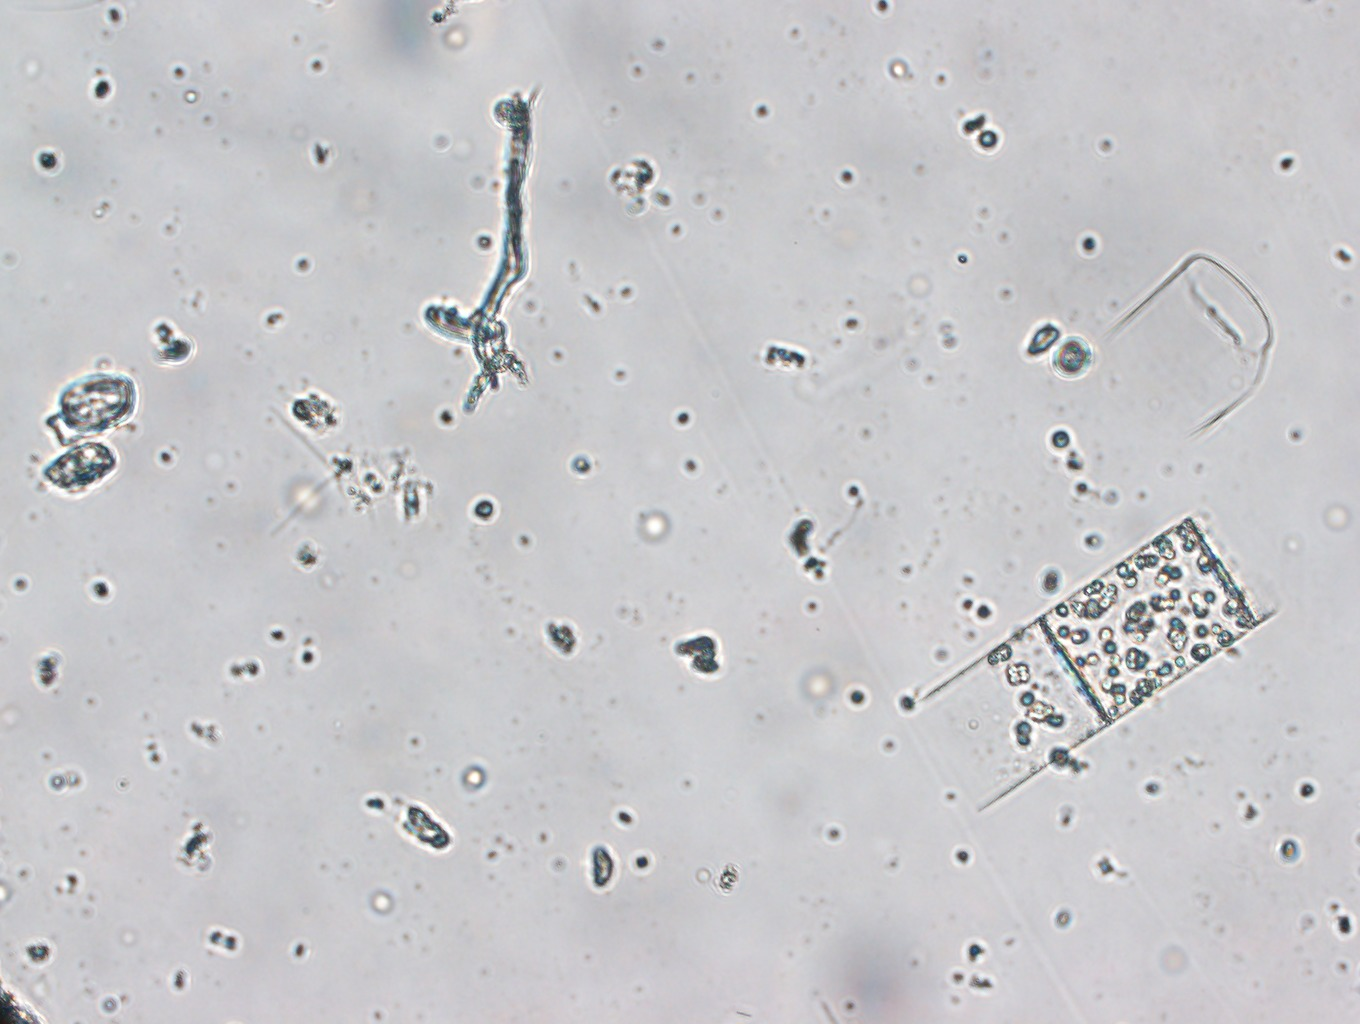guinardia flaccida: (903, 504, 1285, 817)
